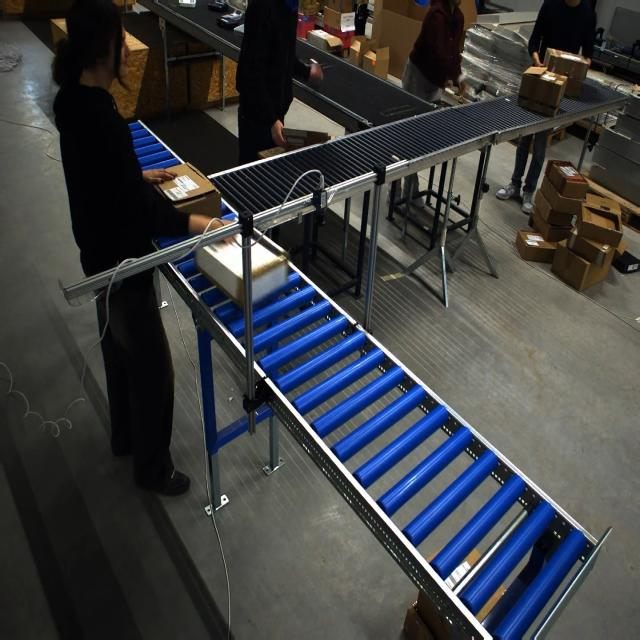box: (196, 232, 289, 310), (154, 165, 220, 226), (257, 129, 326, 157)
product: (215, 11, 244, 30), (207, 0, 230, 12)
